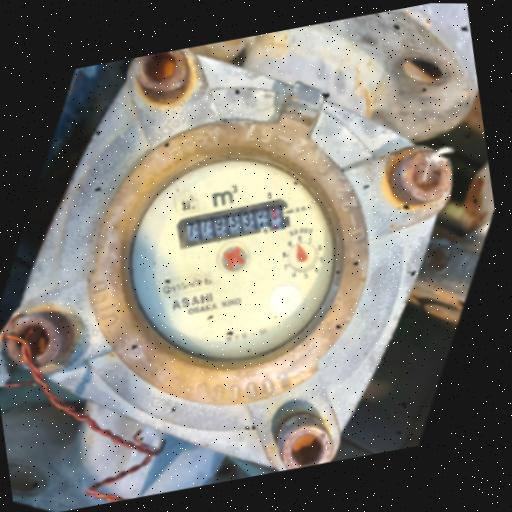0: (254, 205, 269, 228)
3: (226, 211, 242, 233), (240, 208, 255, 230)
7: (184, 219, 201, 242), (198, 217, 214, 239)
8: (267, 204, 283, 230)
9: (213, 215, 227, 236)
border_water_meter_number: (174, 196, 294, 250)
